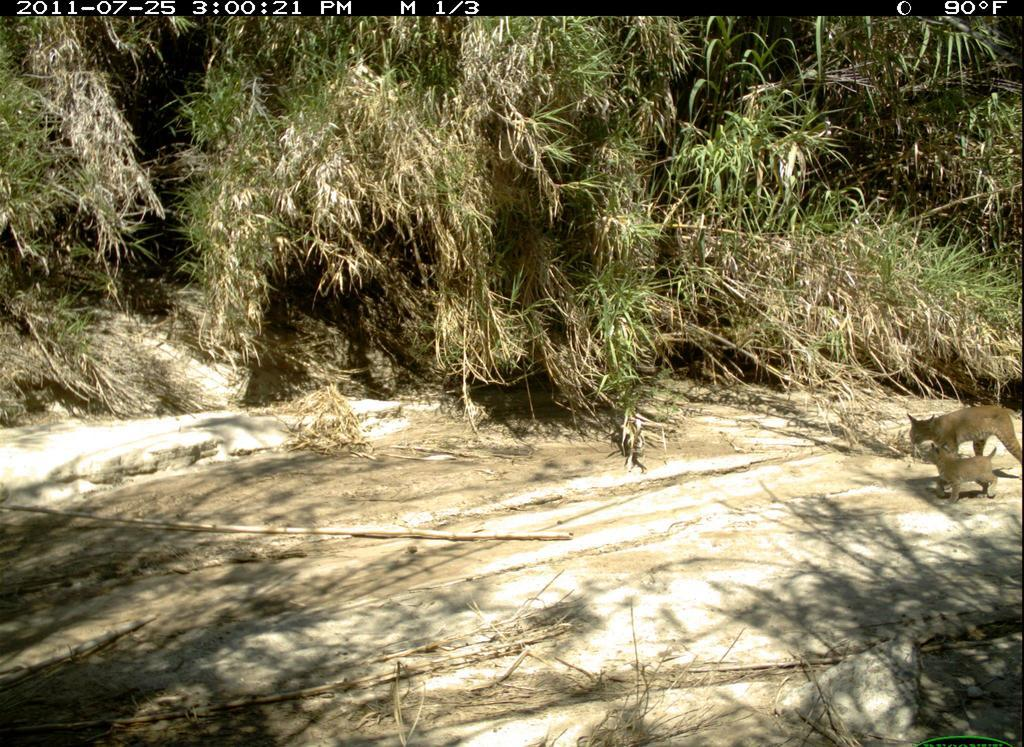bobcat: (904, 396, 1022, 484), (923, 443, 1001, 507)
